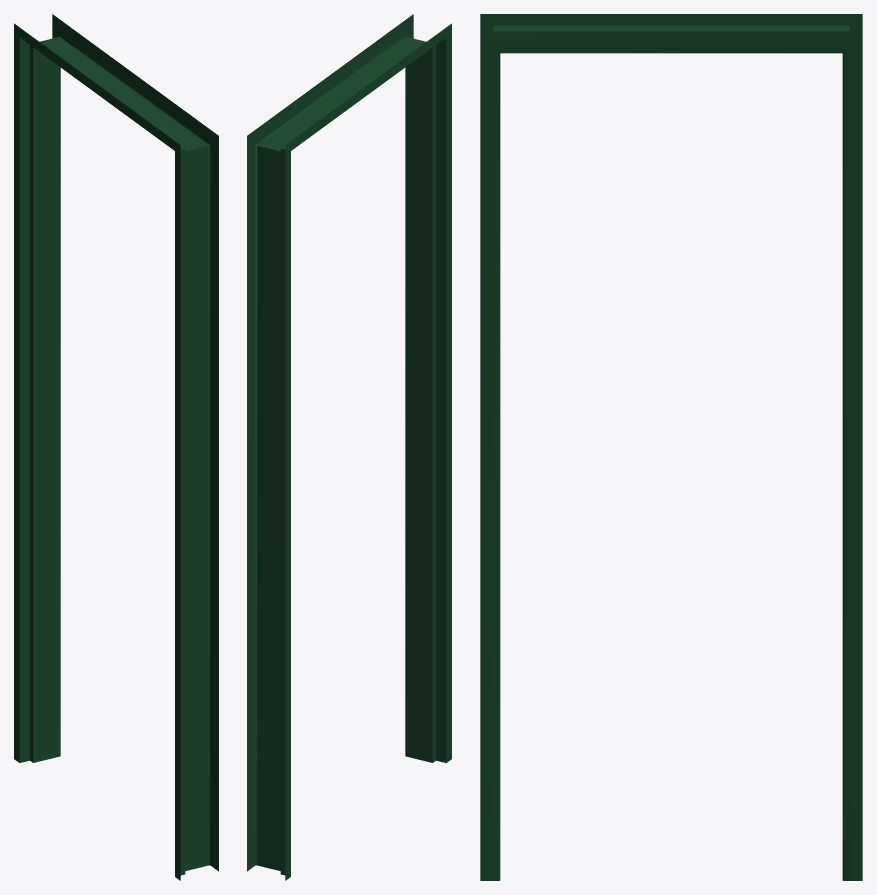
File: door_frame.fbx
3 views of the same model, side by side, from view 1: azimuth 30°, elevation 25°; view 2: azimuth 150°, elevation 25°; view 3: azimuth 270°, elevation 25° (orthographic). The views are drawn at different scales.
Parts seen in each view (by area): view 1: door_frame; view 2: door_frame; view 3: door_frame.
Part boxes in pixels (bbox=[...]): door_frame: bbox=[14, 14, 218, 880]; door_frame: bbox=[247, 14, 451, 880]; door_frame: bbox=[480, 14, 862, 880].
Size of the model in its own units: 4.73 by 86.67 by 35.54.
